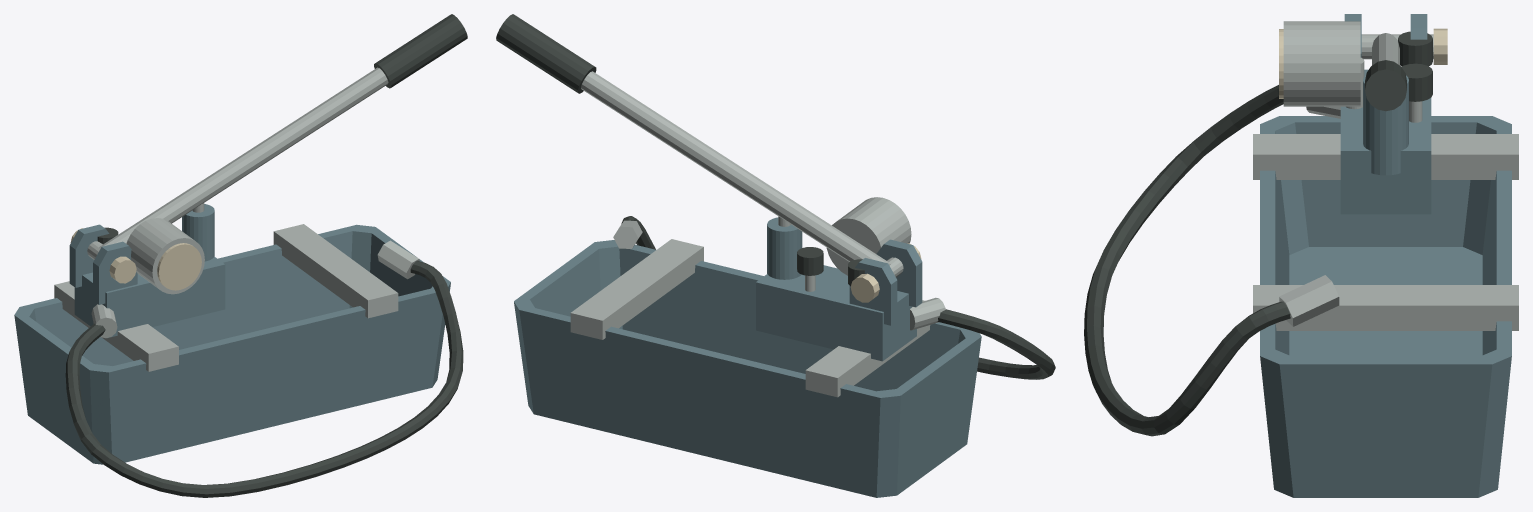
The picture shows the model from 3 angles, left to right: view 1: azimuth 30°, elevation 25°; view 2: azimuth 150°, elevation 25°; view 3: azimuth 270°, elevation 25°; orthographic projection. The views are drawn at different scales.
Parts seen in each view (by area): view 1: WholeHollowChamferedReservoir, WholeContinuousReturningHoseExterior, WholeLongInclinedPumpLever, WholeCompactPumpBodyExterior, WholeTopCrossBridge1, WholeLongLeverEndGrip, WholeTopCrossBridge0, WholeRoundBlankGaugeCase, WholeOpaqueBlankGaugeFace, WholeRearPivotEar-1, WholeRearPivotEar1, WholeUprightPlungerCylinderExterior (+3 smaller); view 2: WholeHollowChamferedReservoir, WholeCompactPumpBodyExterior, WholeLongInclinedPumpLever, WholeTopCrossBridge1, WholeContinuousReturningHoseExterior, WholeLongLeverEndGrip, WholeRoundBlankGaugeCase, WholeTopCrossBridge0, WholeUprightPlungerCylinderExterior, WholeRearPivotEar1, WholeRearPivotEar-1, WholeFrontHoseOutletExterior (+3 smaller); view 3: WholeHollowChamferedReservoir, WholeContinuousReturningHoseExterior, WholeTopCrossBridge1, WholeTopCrossBridge0, WholeCompactPumpBodyExterior, WholeRoundBlankGaugeCase, WholeUprightPlungerCylinderExterior, WholeFullEndCouplingExterior, WholeLongLeverEndGrip, WholeBlankValveKnob0, WholeBlankValveKnob1, WholeLongInclinedPumpLever (+1 smaller).
Part boxes in pixels (x1=…): WholeHollowChamferedReservoir: x1=14, y1=224, x2=450, y2=464; WholeContinuousReturningHoseExterior: x1=65, y1=261, x2=463, y2=497; WholeLongInclinedPumpLever: x1=99, y1=67, x2=388, y2=248; WholeCompactPumpBodyExterior: x1=74, y1=257, x2=225, y2=338; WholeTopCrossBridge1: x1=273, y1=224, x2=398, y2=318; WholeLongLeverEndGrip: x1=374, y1=14, x2=467, y2=88; WholeTopCrossBridge0: x1=54, y1=281, x2=178, y2=371; WholeRoundBlankGaugeCase: x1=126, y1=218, x2=204, y2=294; WholeOpaqueBlankGaugeFace: x1=157, y1=243, x2=201, y2=290; WholeRearPivotEar-1: x1=93, y1=241, x2=137, y2=304; WholeRearPivotEar1: x1=69, y1=224, x2=109, y2=287; WholeUprightPlungerCylinderExterior: x1=182, y1=204, x2=214, y2=261; WholeHollowChamferedReservoir: x1=514, y1=240, x2=981, y2=497; WholeCompactPumpBodyExterior: x1=756, y1=265, x2=916, y2=361; WholeLongInclinedPumpLever: x1=581, y1=71, x2=890, y2=264; WholeTopCrossBridge1: x1=570, y1=239, x2=703, y2=339; WholeContinuousReturningHoseExterior: x1=621, y1=216, x2=1055, y2=379; WholeLongLeverEndGrip: x1=496, y1=14, x2=596, y2=93; WholeRoundBlankGaugeCase: x1=826, y1=197, x2=911, y2=275; WholeTopCrossBridge0: x1=805, y1=300, x2=930, y2=397; WholeUprightPlungerCylinderExterior: x1=767, y1=217, x2=802, y2=279; WholeRearPivotEar1: x1=849, y1=258, x2=897, y2=325; WholeRearPivotEar-1: x1=876, y1=239, x2=922, y2=307; WholeFrontHoseOutletExterior: x1=910, y1=297, x2=945, y2=330; WholeHollowChamferedReservoir: x1=1260, y1=116, x2=1511, y2=497; WholeContinuousReturningHoseExterior: x1=1084, y1=85, x2=1290, y2=436; WholeTopCrossBridge1: x1=1253, y1=285, x2=1518, y2=330; WholeTopCrossBridge0: x1=1253, y1=134, x2=1518, y2=179; WholeCompactPumpBodyExterior: x1=1340, y1=69, x2=1431, y2=214; WholeRoundBlankGaugeCase: x1=1283, y1=21, x2=1360, y2=106; WholeUprightPlungerCylinderExterior: x1=1363, y1=75, x2=1408, y2=175; WholeFullEndCouplingExterior: x1=1279, y1=275, x2=1339, y2=326; WholeLongLeverEndGrip: x1=1365, y1=60, x2=1406, y2=111; WholeBlankValveKnob0: x1=1398, y1=31, x2=1432, y2=66; WholeBlankValveKnob1: x1=1401, y1=63, x2=1432, y2=101; WholeLongInclinedPumpLever: x1=1372, y1=33, x2=1399, y2=65.
Bounding box in the file's own units: 1.04 × 0.7295 × 0.6215.
